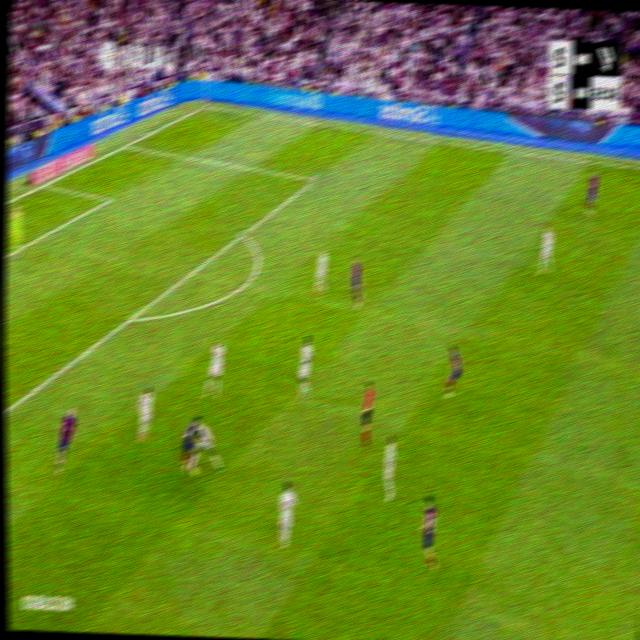bigarea_top_inner: (309, 169, 321, 187)
bottom_arc_area_intersection: (125, 307, 138, 327)
corner: (200, 99, 211, 111)
smallarea_top_inner: (104, 190, 116, 206)
top_arc_area_intersection: (237, 224, 248, 241)
